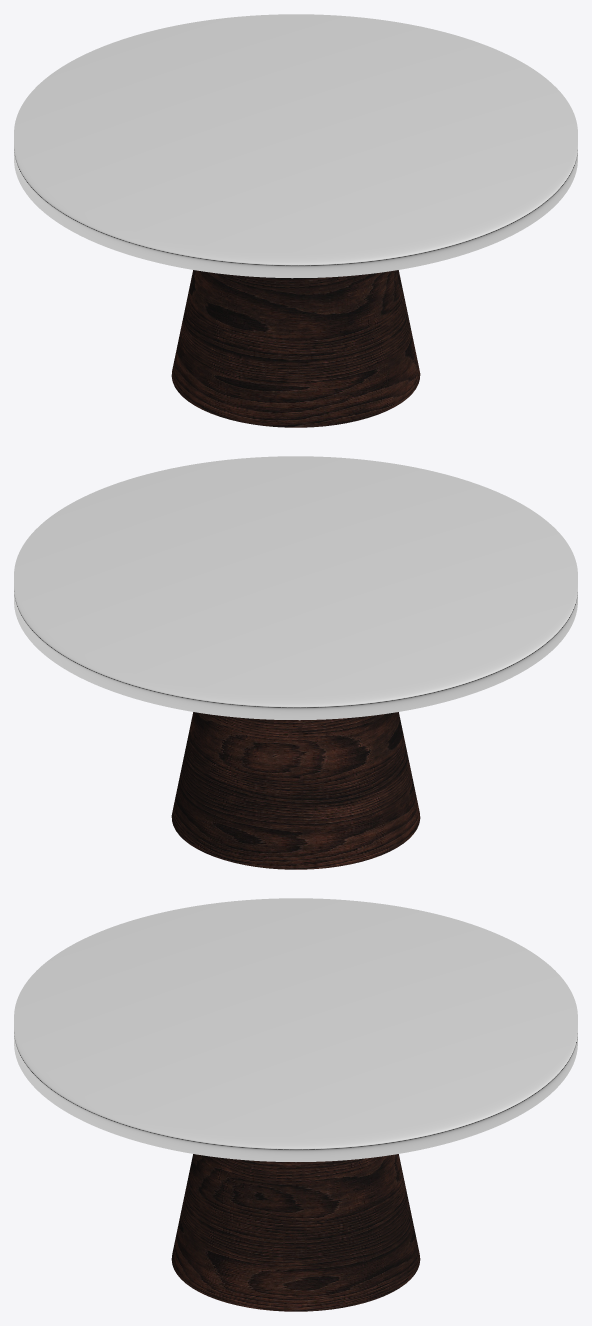
The model's file is table.glb.
The picture shows the model from 3 angles, top to bottom: view 1: azimuth 30°, elevation 25°; view 2: azimuth 150°, elevation 25°; view 3: azimuth 270°, elevation 25°; orthographic projection.
Parts seen in each view (by area): view 1: Cylinder, Cylinder.001; view 2: Cylinder, Cylinder.001; view 3: Cylinder, Cylinder.001.
Part boxes in pixels (x1,y1,x2,y2): Cylinder: (14, 14, 577, 278); Cylinder.001: (171, 270, 420, 427); Cylinder: (14, 456, 577, 720); Cylinder.001: (171, 712, 420, 869); Cylinder: (14, 898, 577, 1161); Cylinder.001: (171, 1154, 420, 1311).
Size of the model in its own units: 4 by 1.89 by 4.
Materials: 1 (1 with a texture image).
